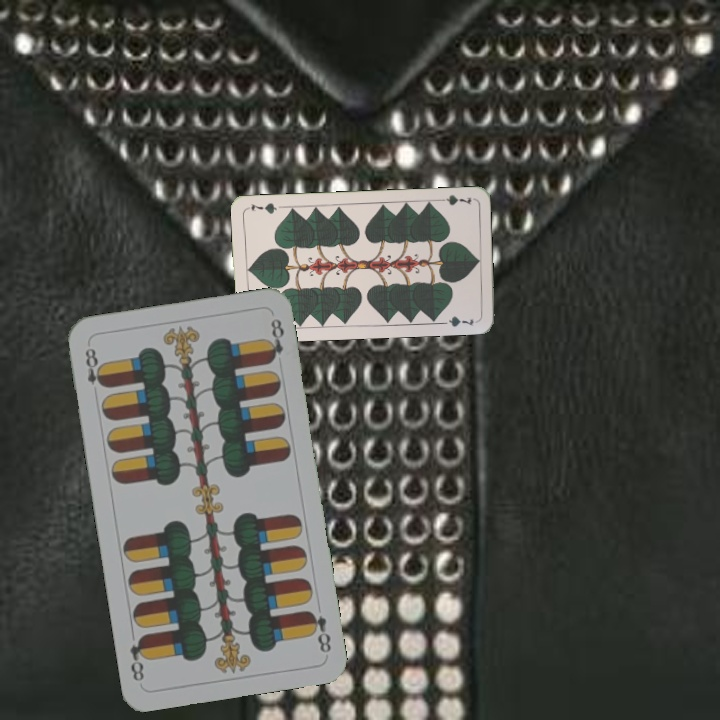E8: (304, 606, 334, 656), (81, 343, 108, 390)
G7: (434, 191, 474, 208)
